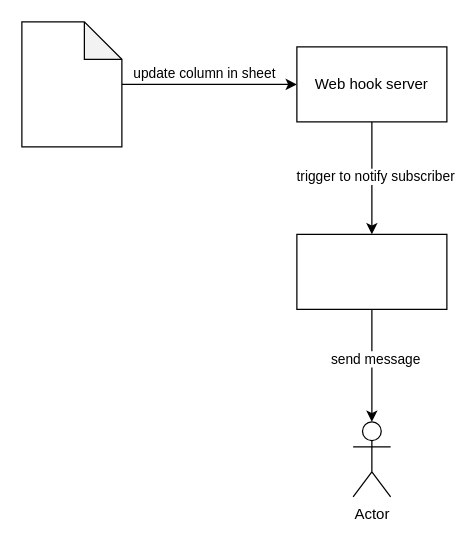
Image size: 476x545. Some labels were removed from this diagram. The shapes that lost their labels are listed below. From the top down, each one's centre as x and y in pixels, then its label:
At (x=71, y=84): "Google Sheet".
At (x=371, y=271): "Messaging API".
